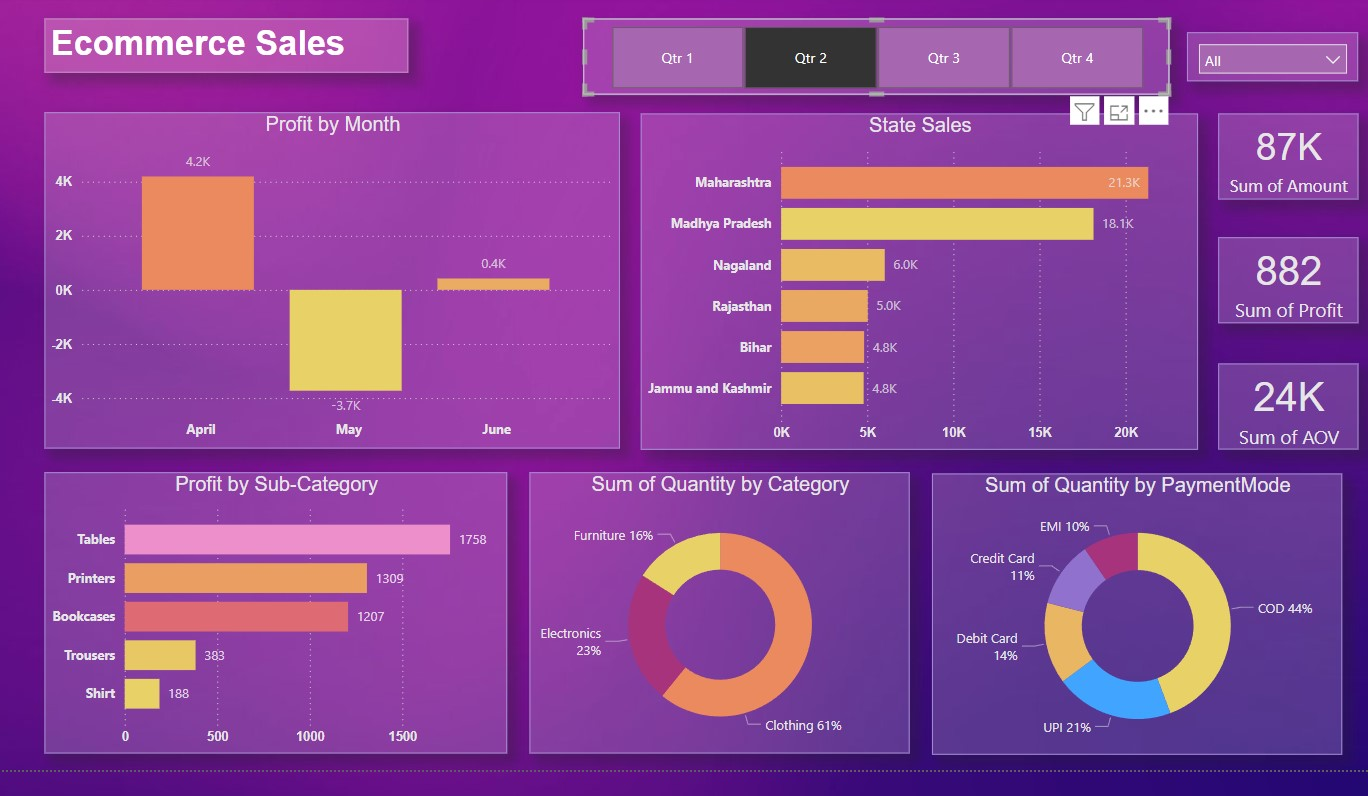

What the dashboard file says about the page in this screenshot:
{"tool":"powerbi","page":{"name":"Page 1","canvas":[1280,720],"ordinal":0},"visuals":[{"type":"textbox","box":[44.2,20.9,338.4,50],"z":0},{"type":"columnChart","title":"Profit by Month","fields":{"Y":["Sum(Details.Profit)"],"Category":["Orders.Order Date.Variation.Date Hierarchy.Month"]},"box":[44.2,108.1,534.9,312.8],"z":1000},{"type":"barChart","title":"Profit by Sub-Category","fields":{"Y":["Sum(Details.Profit)"],"Category":["Details.Sub-Category"]},"box":[44.2,443,430.2,261.6],"z":2000},{"type":"donutChart","fields":{"Category":["Details.Category"],"Y":["Sum(Details.Quantity)"]},"box":[495.4,443,353.5,261.6],"z":3000},{"type":"donutChart","fields":{"Category":["Details.PaymentMode"],"Y":["Sum(Details.Quantity)"]},"box":[869.8,444.2,381.4,261.6],"z":4000},{"type":"card","fields":{"Values":["Sum(Details.Amount)"]},"box":[1136,109.3,130.2,80.2],"z":5000},{"type":"card","fields":{"Values":["Sum(Details.Profit)"]},"box":[1136,224.4,130.2,80.2],"z":6000},{"type":"card","fields":{"Values":["Sum(Details.AOV)"]},"box":[1136,341.9,130.2,80.2],"z":7000},{"type":"barChart","title":"State Sales","fields":{"Category":["Orders.State"],"Y":["Sum(Details.Amount)"]},"box":[598.8,109.3,518.6,312.8],"z":8000},{"type":"slicer","fields":{"Values":["Orders.Order Date.Variation.Date Hierarchy.Quarter"]},"box":[545.4,20.9,545.4,70.9],"z":9000},{"type":"slicer","fields":{"Values":["Orders.State"]},"box":[1107,33.7,159.3,45.3],"z":10000}]}

Visuals, with their boxes on the page's 1280x720 design canvas (x1, y1, x2, y2). These are canvas units, not pixel positions in the 1368x796 screenshot, which may show the page scaled, cropped or inside an application window:
textbox: left=44, top=21, right=383, bottom=71
"Profit by Month" columnChart: left=44, top=108, right=579, bottom=421
"Profit by Sub-Category" barChart: left=44, top=443, right=474, bottom=705
donutChart - Details.Category x Sum(Details.Quantity): left=495, top=443, right=849, bottom=705
donutChart - Details.PaymentMode x Sum(Details.Quantity): left=870, top=444, right=1251, bottom=706
card - Sum(Details.Amount): left=1136, top=109, right=1266, bottom=190
card - Sum(Details.Profit): left=1136, top=224, right=1266, bottom=305
card - Sum(Details.AOV): left=1136, top=342, right=1266, bottom=422
"State Sales" barChart: left=599, top=109, right=1117, bottom=422
slicer - Orders.Order Date.Variation.Date Hierarchy.Quarter: left=545, top=21, right=1091, bottom=92
slicer - Orders.State: left=1107, top=34, right=1266, bottom=79
